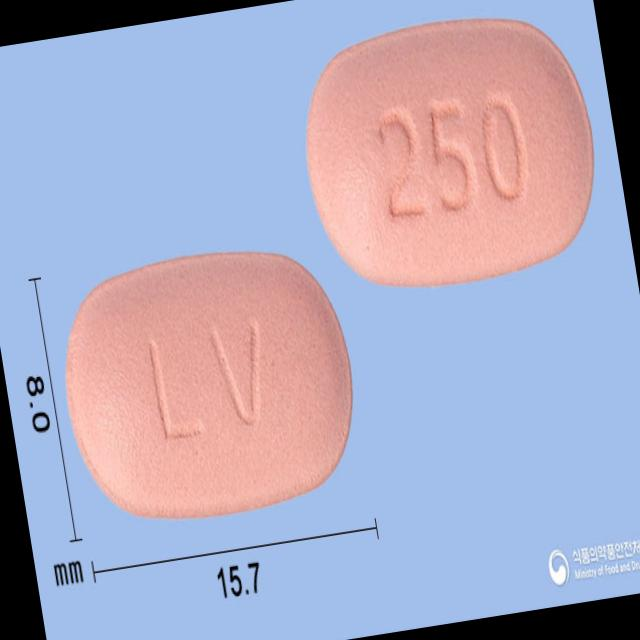Lexacin: (290, 0, 611, 302), (46, 236, 368, 534)
